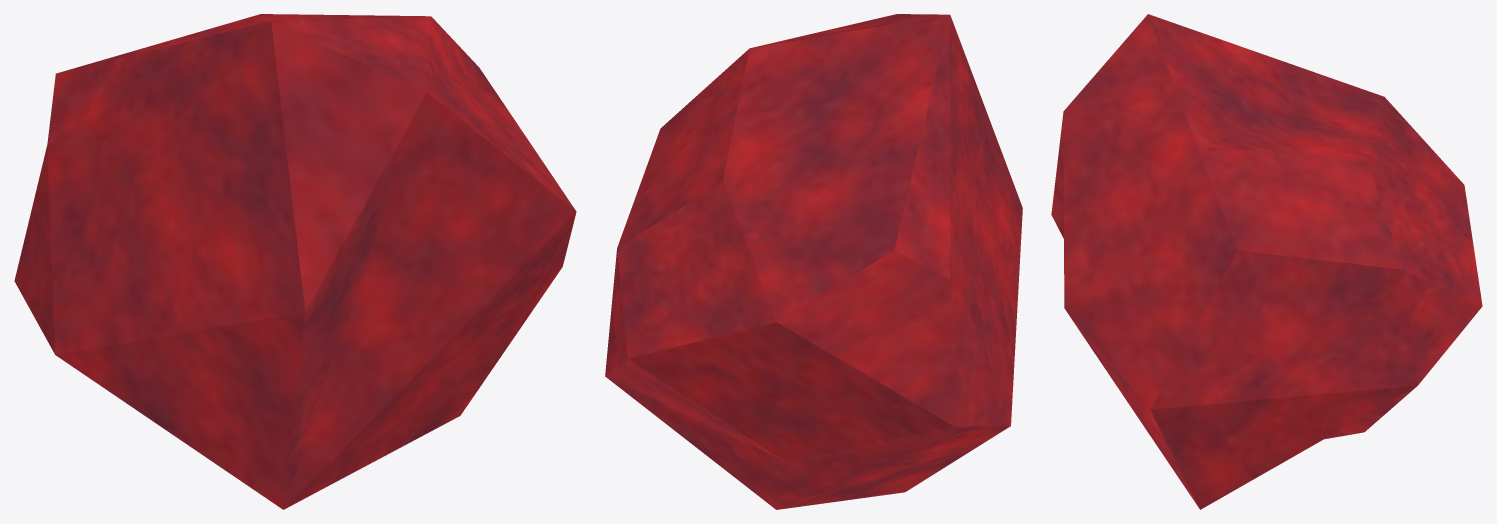
Rendered from gib_generic_1.glb.
The picture shows the model from 3 angles, left to right: view 1: azimuth 30°, elevation 25°; view 2: azimuth 150°, elevation 25°; view 3: azimuth 270°, elevation 25°; orthographic projection. The views are drawn at different scales.
Visible parts, largest first — view 1: gib_type1; view 2: gib_type1; view 3: gib_type1.
Part boxes in pixels (x1,y1,x2,y2): gib_type1: (14, 14, 576, 509); gib_type1: (605, 14, 1022, 509); gib_type1: (1051, 14, 1482, 509).
Bounding box in the file's own units: 0.6146 × 0.6901 × 0.6164.
1 material, 1 textured.
